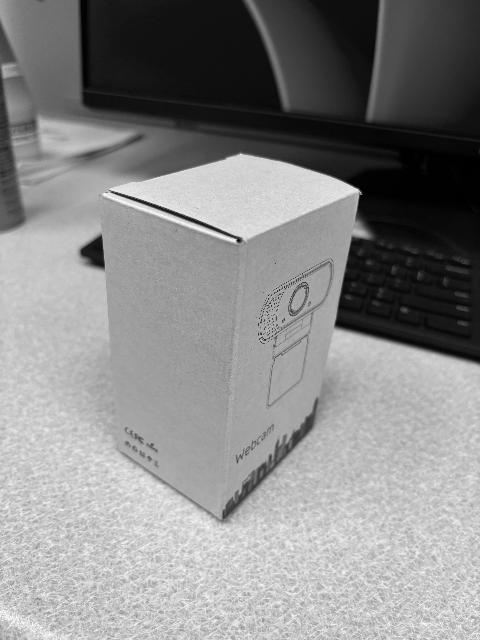CameraBox1: (97, 154, 361, 522)
